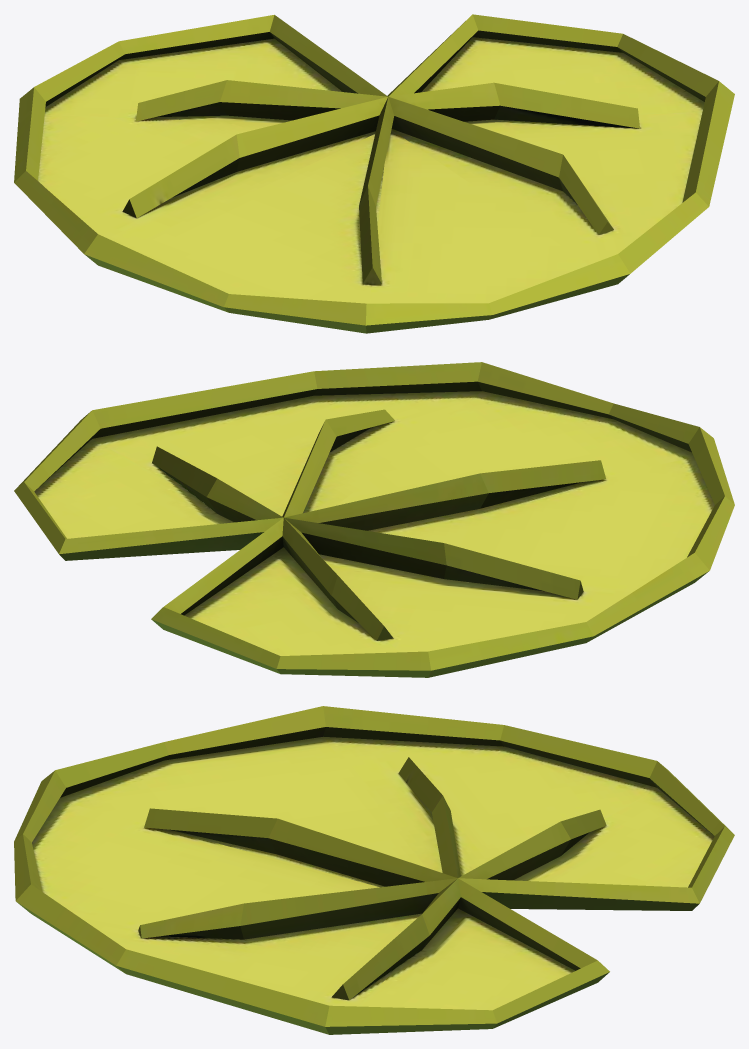
File: 8xHS2Js0MA_.glb
The picture shows the model from 3 angles, top to bottom: view 1: azimuth 30°, elevation 25°; view 2: azimuth 150°, elevation 25°; view 3: azimuth 270°, elevation 25°; orthographic projection. The views are drawn at different scales.
Parts seen in each view (by area): view 1: lily_pad; view 2: lily_pad; view 3: lily_pad.
Boxes of the visible parts, left/top/right/bottom form: lily_pad: left=14, top=14, right=734, bottom=333; lily_pad: left=14, top=362, right=734, bottom=677; lily_pad: left=14, top=706, right=734, bottom=1034.
Bounding box in the file's own units: 18.15 × 0.9994 × 17.74.
1 material, 1 textured.
